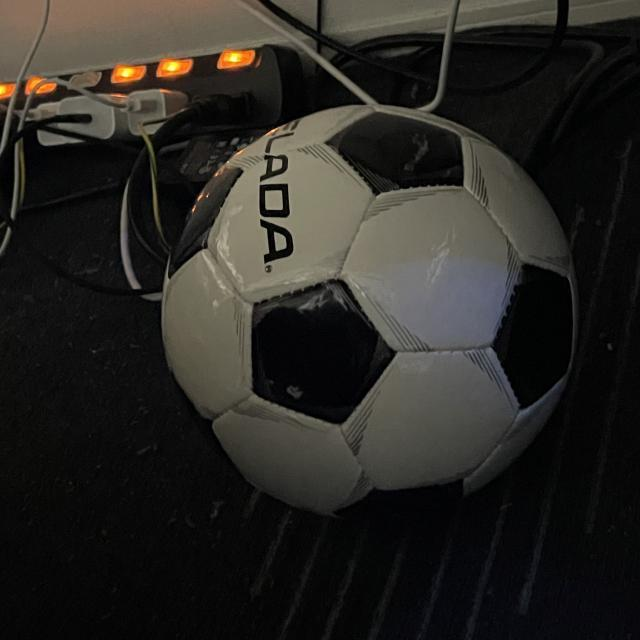ball: (160, 107, 580, 525)
